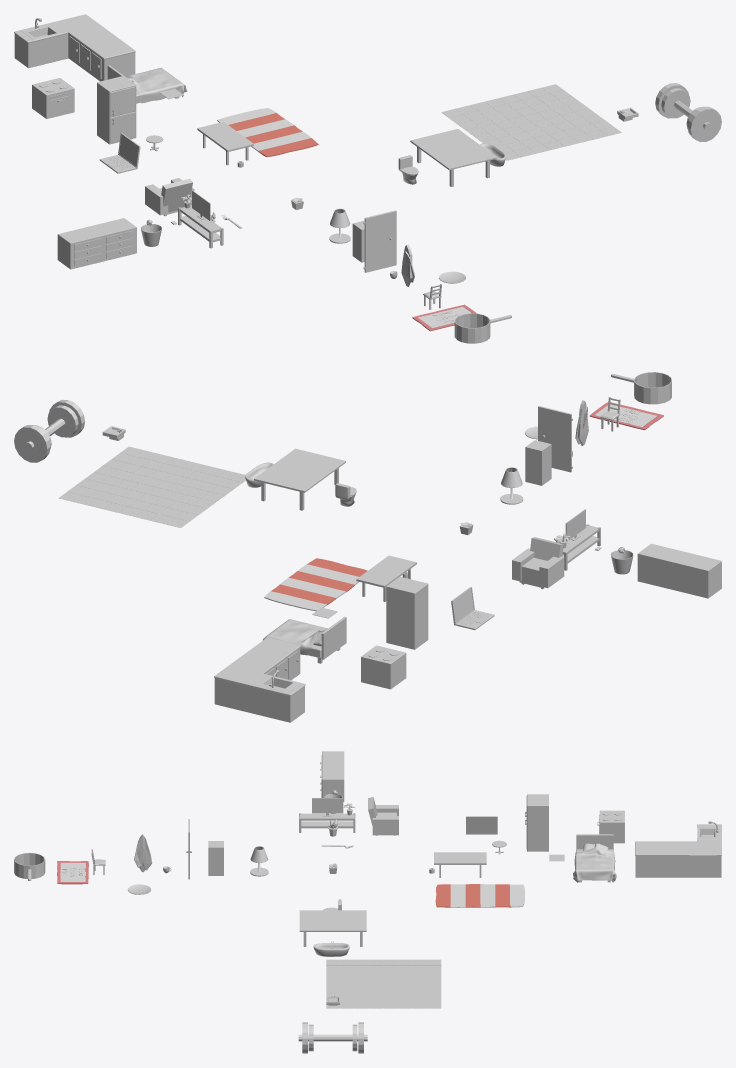
File: HeroAppartment.fbx
3 views of the same model, one above another, from view 1: azimuth 30°, elevation 25°; view 2: azimuth 150°, elevation 25°; view 3: azimuth 270°, elevation 25° (orthographic). The views are drawn at different scales.
Parts seen in each view (by area): view 1: Tile floor.002, Tile floor, Carpet, Kitchen Counter, Drawers, Kitchen Counter.002, Big Table, Circle.006, Door, Tile floor.001, Arm Chair, Cube.035 (+8 smaller); view 2: Tile floor, Tile floor.002, Drawers, Carpet, Fridge, Kitchen Counter, Big Table, Kitchen Counter.002, Circle.006, Arm Chair, Door, Stove (+7 smaller); view 3: Tile floor, Tile floor.002, Carpet, Kitchen Counter, Big Table, Kitchen Counter.002, Plane, Fridge, Drawers, Tile floor.001, Arm Chair, DoorMat (+7 smaller).
Boxes of the visible parts, <box> form: Tile floor.002: <box>449,84,612,160</box>; Tile floor: <box>441,88,621,156</box>; Carpet: <box>217,108,318,156</box>; Kitchen Counter: <box>14,33,135,81</box>; Drawers: <box>57,218,136,269</box>; Kitchen Counter.002: <box>14,14,135,59</box>; Big Table: <box>410,129,496,170</box>; Circle.006: <box>655,83,721,142</box>; Door: <box>363,210,396,272</box>; Tile floor.001: <box>449,84,621,157</box>; Arm Chair: <box>145,178,194,215</box>; Cube.035: <box>110,86,135,142</box>; Tile floor: <box>67,446,241,527</box>; Tile floor.002: <box>59,450,245,524</box>; Drawers: <box>637,543,721,598</box>; Carpet: <box>264,558,367,611</box>; Fridge: <box>386,576,428,649</box>; Kitchen Counter: <box>214,647,304,722</box>; Big Table: <box>254,448,345,492</box>; Kitchen Counter.002: <box>214,637,305,696</box>; Circle.006: <box>14,399,85,462</box>; Arm Chair: <box>512,537,564,588</box>; Door: <box>538,406,572,472</box>; Stove: <box>361,645,406,689</box>; Tile floor: <box>326,959,440,1008</box>; Tile floor.002: <box>326,959,440,1008</box>; Carpet: <box>435,884,524,907</box>; Kitchen Counter: <box>635,856,721,877</box>; Big Table: <box>299,910,366,931</box>; Kitchen Counter.002: <box>635,824,721,855</box>; Plane: <box>573,847,616,882</box>; Fridge: <box>527,794,548,851</box>; Drawers: <box>322,751,344,801</box>; Tile floor.001: <box>326,959,441,1008</box>; Arm Chair: <box>368,797,398,835</box>; DoorMat: <box>57,861,88,884</box>.
Size of the model in its own units: 4103 by 434 by 4535.
